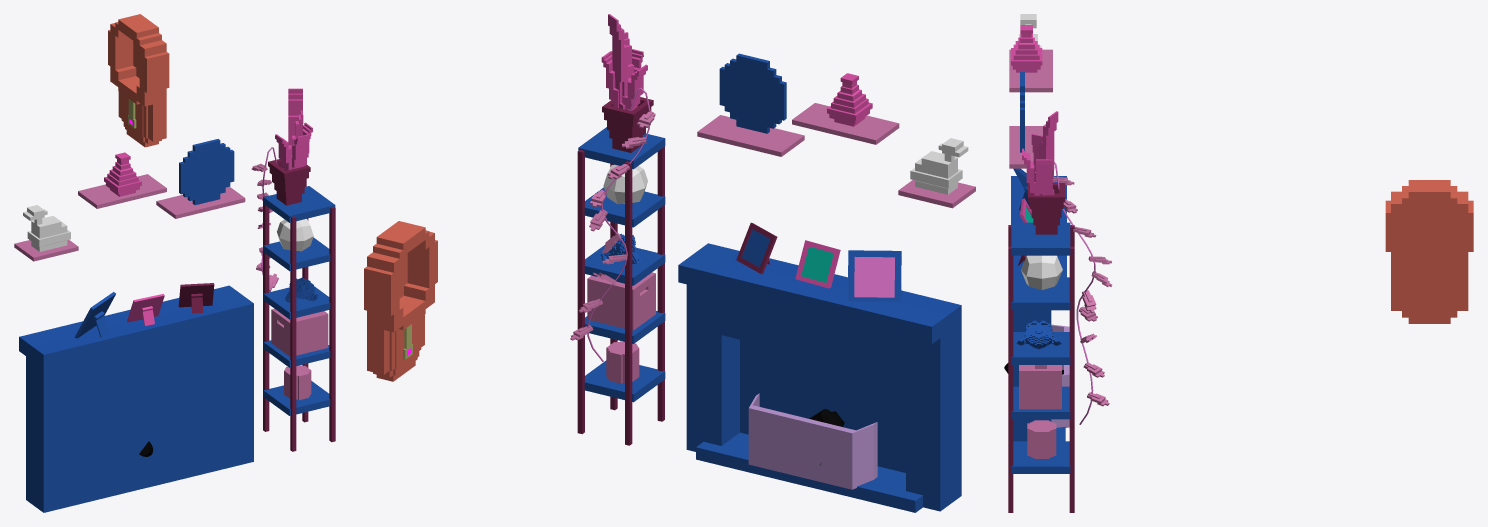
File: NewFurniture.fbx
3 views of the same model, side by side, from view 1: azimuth 30°, elevation 25°; view 2: azimuth 150°, elevation 25°; view 3: azimuth 270°, elevation 25° (orthographic). The views are drawn at different scales.
Parts seen in each view (by area): view 1: Left Furniture, Reloj; view 2: Left Furniture, Reloj; view 3: Left Furniture, Reloj.
Part boxes in pixels (box(x1,y1,x2,y2)): Left Furniture: box(14, 88, 335, 512); Reloj: box(108, 14, 169, 147); Left Furniture: box(570, 14, 975, 512); Reloj: box(364, 221, 437, 381); Left Furniture: box(1004, 14, 1112, 512); Reloj: box(1385, 180, 1473, 323).
Size of the model in its own units: 157 by 171 by 187.
